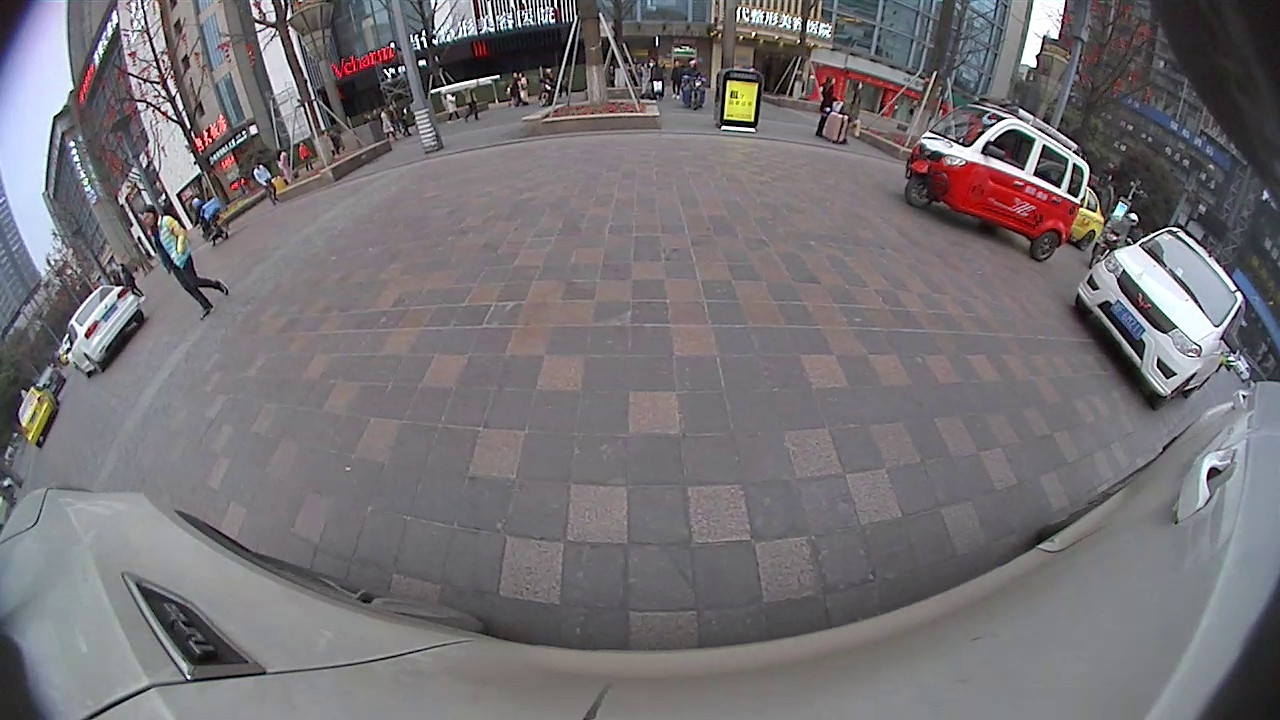car: (1071, 222, 1248, 410), (63, 281, 149, 378), (14, 380, 61, 449), (1066, 184, 1108, 251)
front: (901, 172, 940, 211)
person: (138, 204, 178, 315), (817, 74, 835, 137)
rear: (1028, 227, 1062, 265)
rider: (901, 94, 1093, 265), (187, 193, 228, 248)
